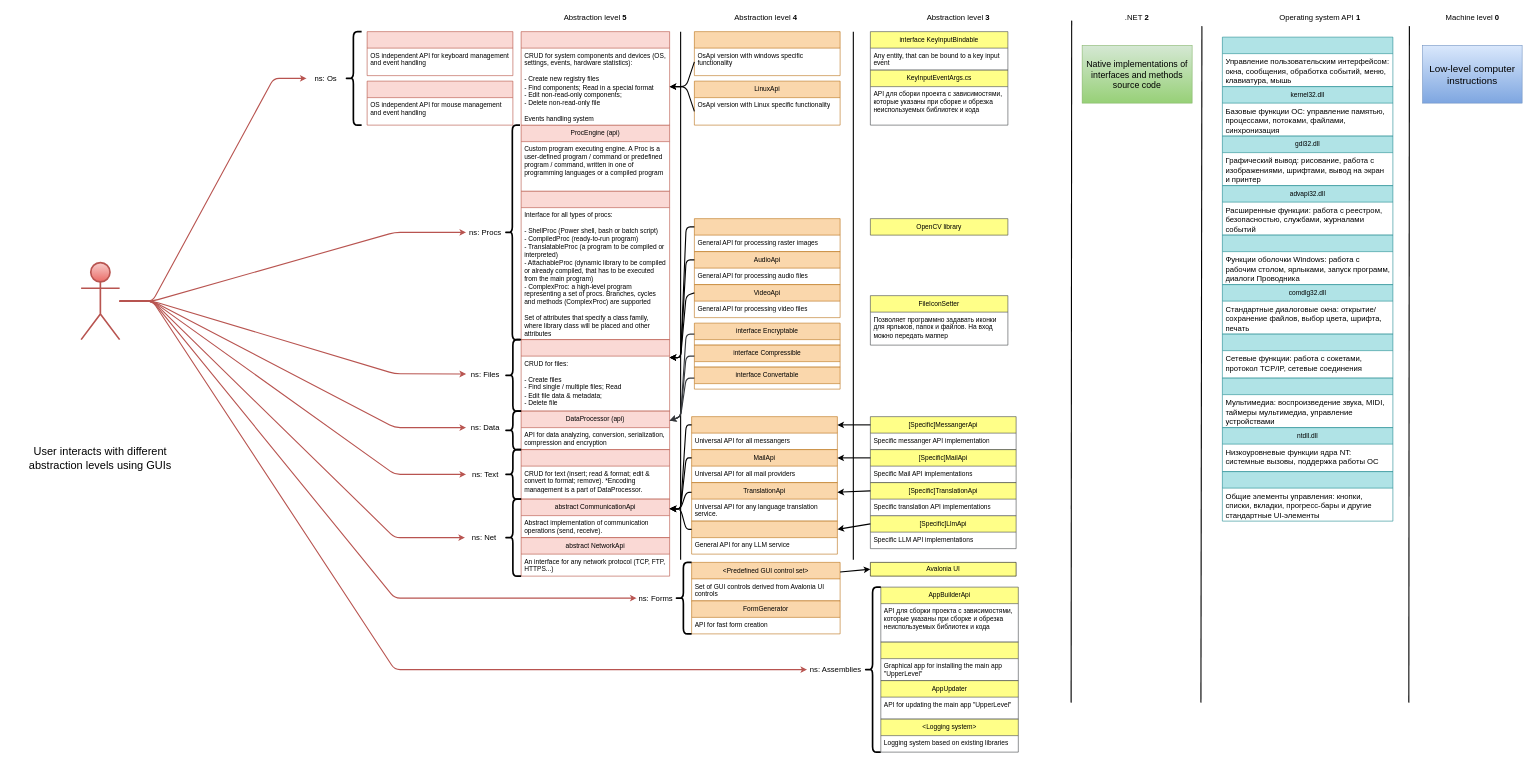
This 1532x763 diagram has some shape labels left out. Each missing label, with the box of its shape:
abstract OsApi: (521, 31, 670, 125)
AppInstaller: (880, 642, 1018, 681)
comctl32.dll: (1222, 471, 1393, 521)
FileSystemApi: (521, 339, 670, 411)
KeyboardManager: (367, 31, 513, 76)
LlmApi: (691, 521, 837, 554)
MessangerApi: (691, 416, 837, 450)
MouseManager: (367, 81, 513, 125)
Procable: (521, 191, 670, 340)
RasterImageApi: (694, 218, 840, 252)
shell32.dll: (1222, 235, 1393, 285)
TextProcessor (api): (521, 449, 670, 499)
User: (80, 262, 120, 340)
user32.dll: (1222, 37, 1393, 87)
WindowsApi: (694, 31, 840, 76)
winmm.dll: (1222, 378, 1393, 428)
ws2_32.dll: (1222, 334, 1393, 378)
